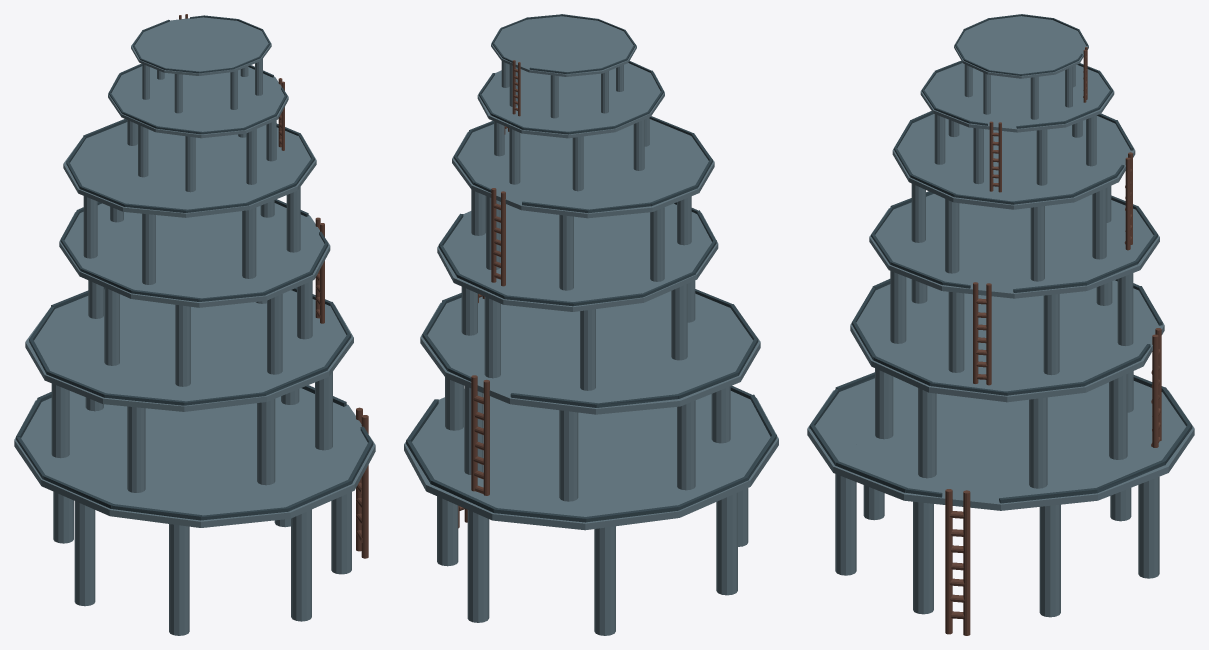
The picture shows the model from 3 angles, left to right: view 1: azimuth 30°, elevation 25°; view 2: azimuth 150°, elevation 25°; view 3: azimuth 270°, elevation 25°; orthographic projection. The views are drawn at different scales.
Visible parts, largest first — view 1: node_MeshObject1453162496-PolyPaper19, node_MeshObject829901824-PolyPaper17; view 2: node_MeshObject1453162496-PolyPaper19, node_MeshObject829901824-PolyPaper17; view 3: node_MeshObject1453162496-PolyPaper19, node_MeshObject829901824-PolyPaper17.
Boxes of the visible parts, box(x1,y1,x2,y2) form: node_MeshObject1453162496-PolyPaper19: box(25, 14, 353, 411); node_MeshObject829901824-PolyPaper17: box(14, 296, 375, 635); node_MeshObject1453162496-PolyPaper19: box(420, 14, 760, 495); node_MeshObject829901824-PolyPaper17: box(404, 289, 778, 635); node_MeshObject1453162496-PolyPaper19: box(850, 14, 1164, 459); node_MeshObject829901824-PolyPaper17: box(807, 279, 1194, 635).
Size of the model in its own units: 1.52 by 2.47 by 1.64.
